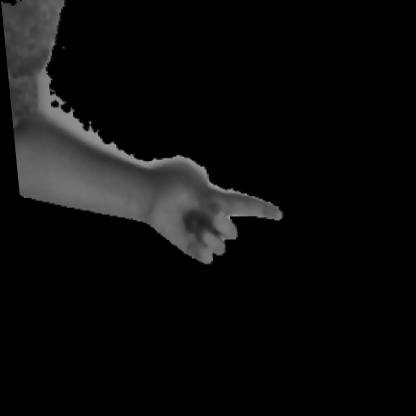one: (69, 108, 304, 280)
